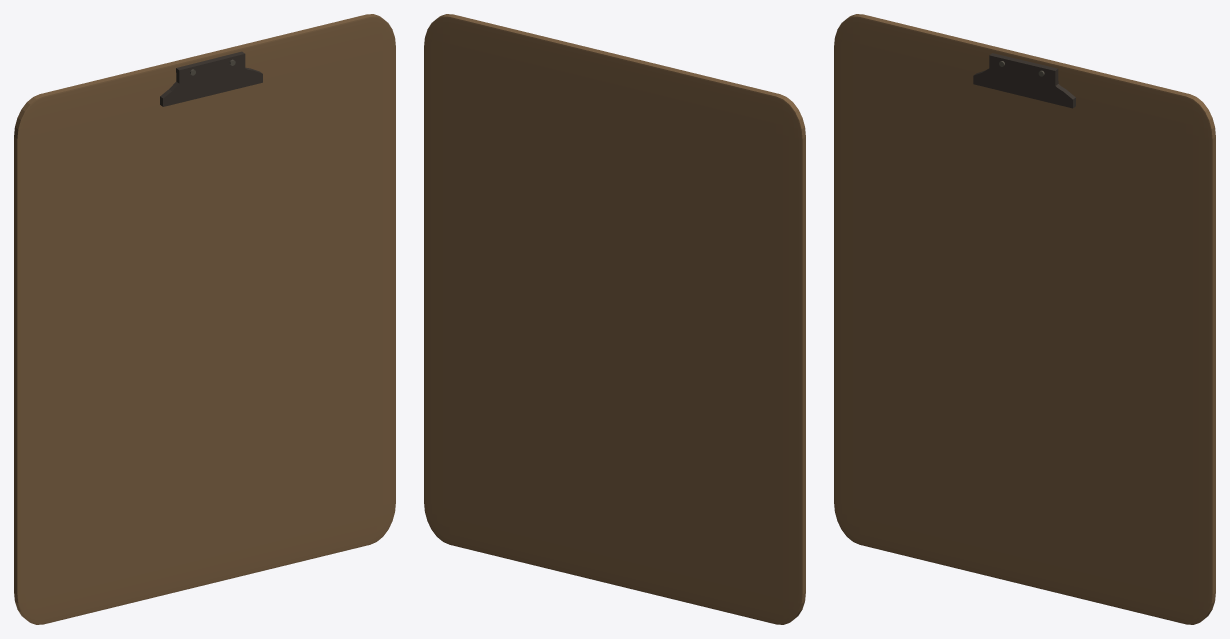
The model's file is Clipboard.glb.
3 views of the same model, side by side, from view 1: azimuth 30°, elevation 25°; view 2: azimuth 150°, elevation 25°; view 3: azimuth 330°, elevation 25° (orthographic).
Visible parts, largest first — view 1: Clipboard-col; view 2: Clipboard-col; view 3: Clipboard-col.
Part boxes in pixels (x1=…): Clipboard-col: x1=14, y1=14, x2=395, y2=624; Clipboard-col: x1=424, y1=14, x2=805, y2=624; Clipboard-col: x1=834, y1=14, x2=1215, y2=624.
Bounding box in the file's own units: 0.598 × 0.7971 × 0.0219.
